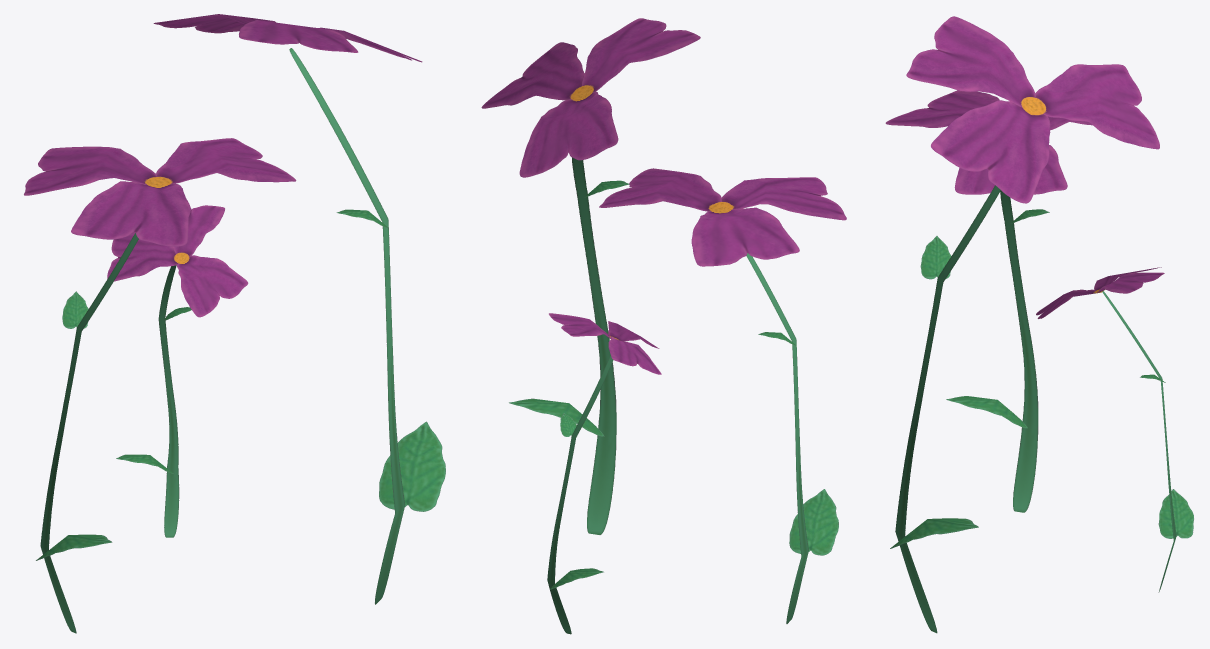
The model's file is SM_Flower_04.fbx.
3 renders of one model, left to right at view 1: azimuth 30°, elevation 25°; view 2: azimuth 150°, elevation 25°; view 3: azimuth 270°, elevation 25°, orthographic. The views are drawn at different scales.
Visible parts, largest first — view 1: SM_Flower_04_LOD0; view 2: SM_Flower_04_LOD0; view 3: SM_Flower_04_LOD0.
Boxes of the visible parts, left/top/right/bottom form: SM_Flower_04_LOD0: left=24, top=14, right=445, bottom=633; SM_Flower_04_LOD0: left=481, top=18, right=846, bottom=634; SM_Flower_04_LOD0: left=885, top=16, right=1193, bottom=633.
Size of the model in its own units: 44.29 by 33.17 by 65.15.
